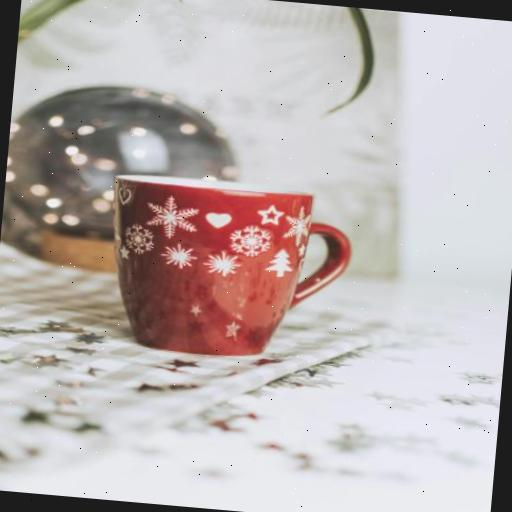cup: (100, 170, 358, 368)
